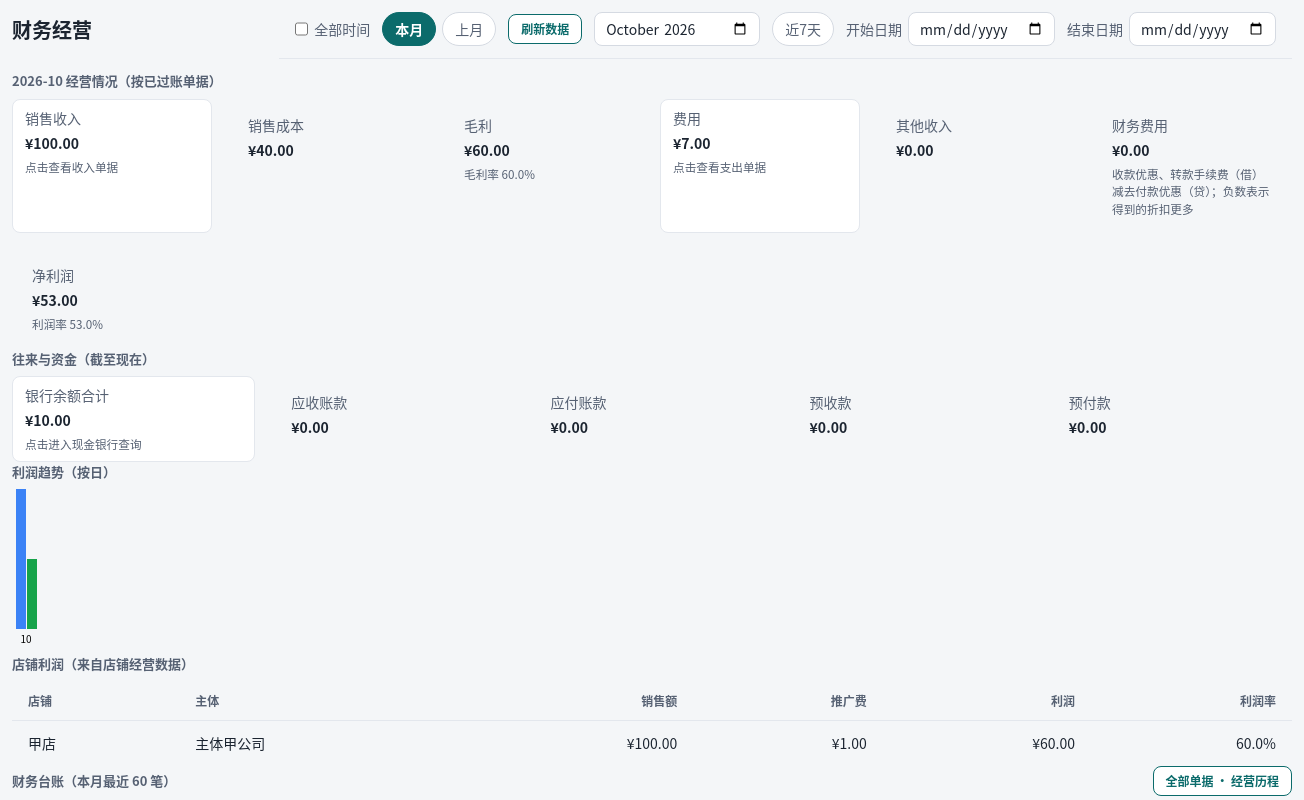
Test: 财务经营 › 店铺利润有主体列，台账有店铺和来源列；勾选“全部时间”用 all 重新查，趋势改按月
expect the text "主体甲公司" is shown: met, box [179,720,463,766]
expect the column heading "主体" is shown: met, box [179,682,463,720]
Click the checkbox labelled "全部时间" at (302, 29), box [295,12,308,46]
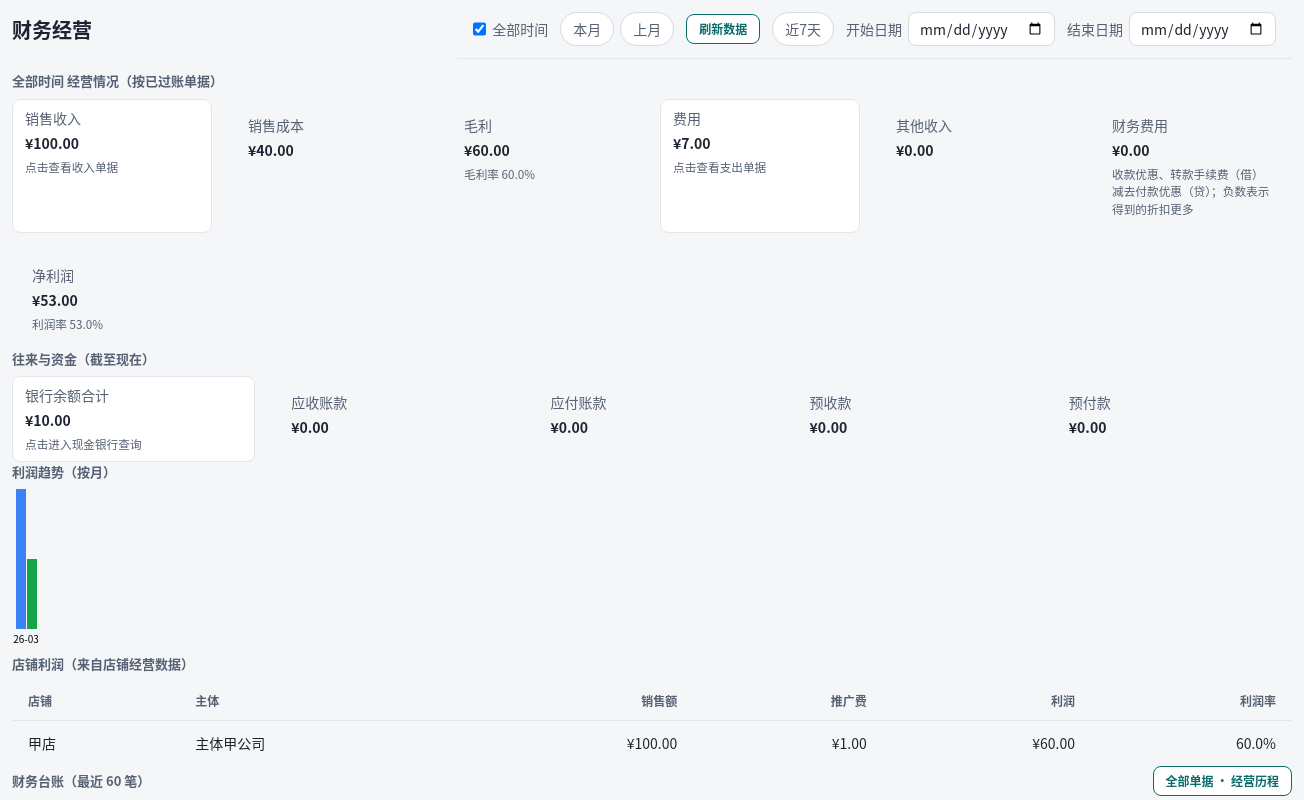
expect the heading "利润趋势（按月）" is shown: met, box [12,462,116,480]
expect the field labelled "月份" is gone: met
expect the heading "全部时间 经营情况（按已过账单据）" is shown: met, box [12,71,223,90]
